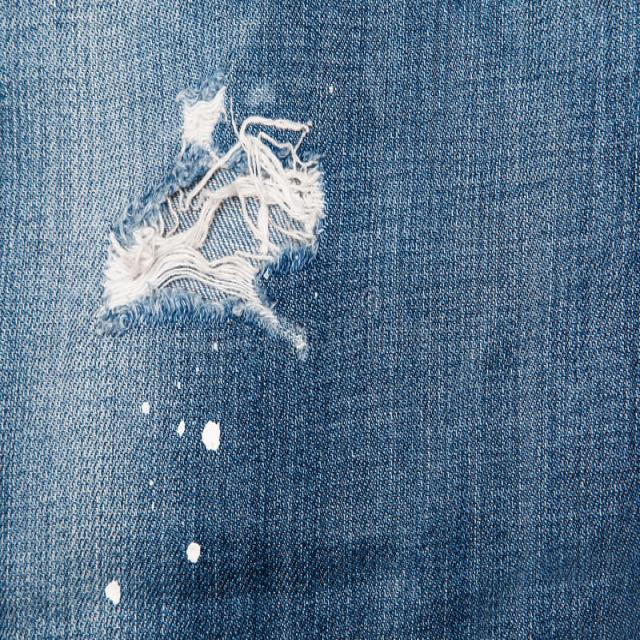Hole: (96, 113, 326, 358), (181, 86, 226, 152), (202, 422, 220, 452), (104, 581, 121, 606), (186, 543, 201, 564), (140, 402, 152, 416), (176, 421, 185, 436), (211, 341, 222, 352)
